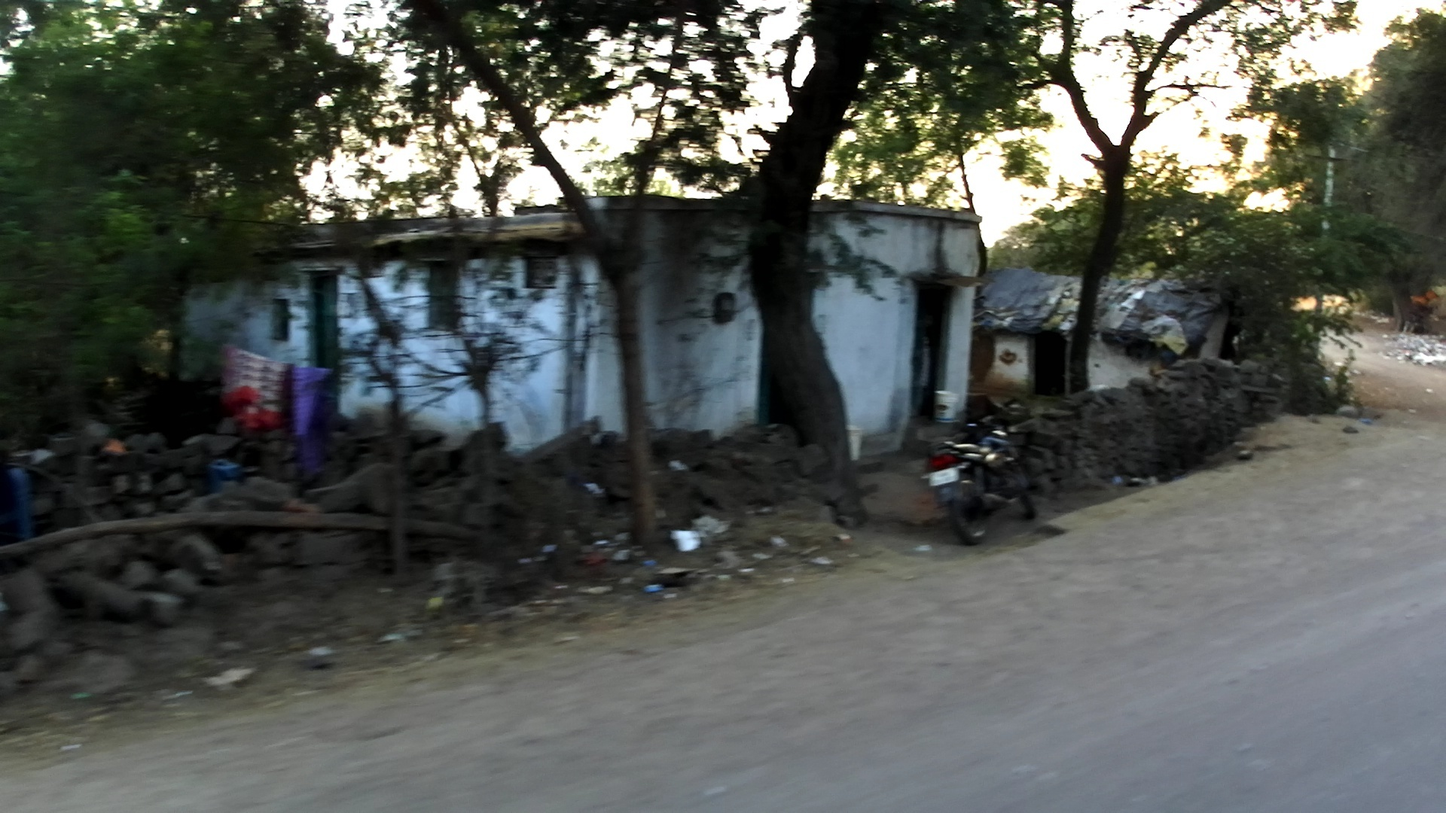motorcycle: (920, 394, 1040, 547)
person: (909, 298, 937, 422)
